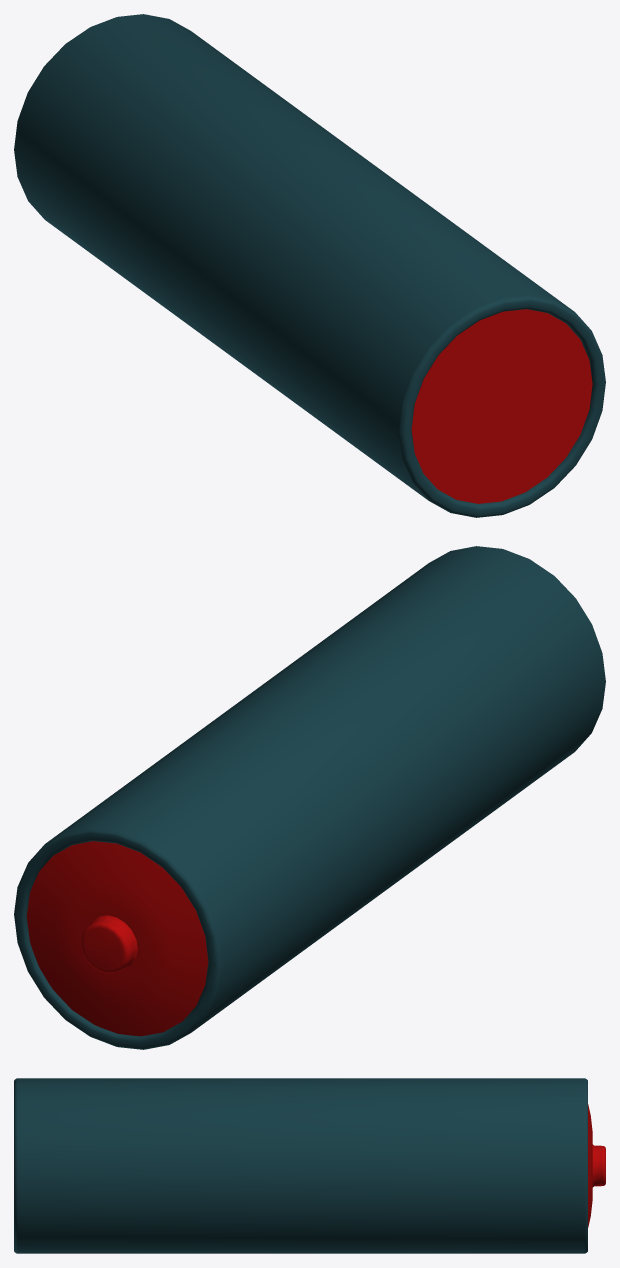
File: battery005.fbx
3 renders of one model, top to bottom at view 1: azimuth 30°, elevation 25°; view 2: azimuth 150°, elevation 25°; view 3: azimuth 270°, elevation 25°, orthographic. The views are drawn at different scales.
Visible parts, largest first — view 1: battery005_LOD0; view 2: battery005_LOD0; view 3: battery005_LOD0.
Part boxes in pixels (box(x1,y1,x2,y2)): battery005_LOD0: box(14, 14, 605, 517); battery005_LOD0: box(14, 546, 605, 1049); battery005_LOD0: box(14, 1078, 605, 1253).
Size of the model in its own units: 0.5634 by 0.5634 by 1.89.
